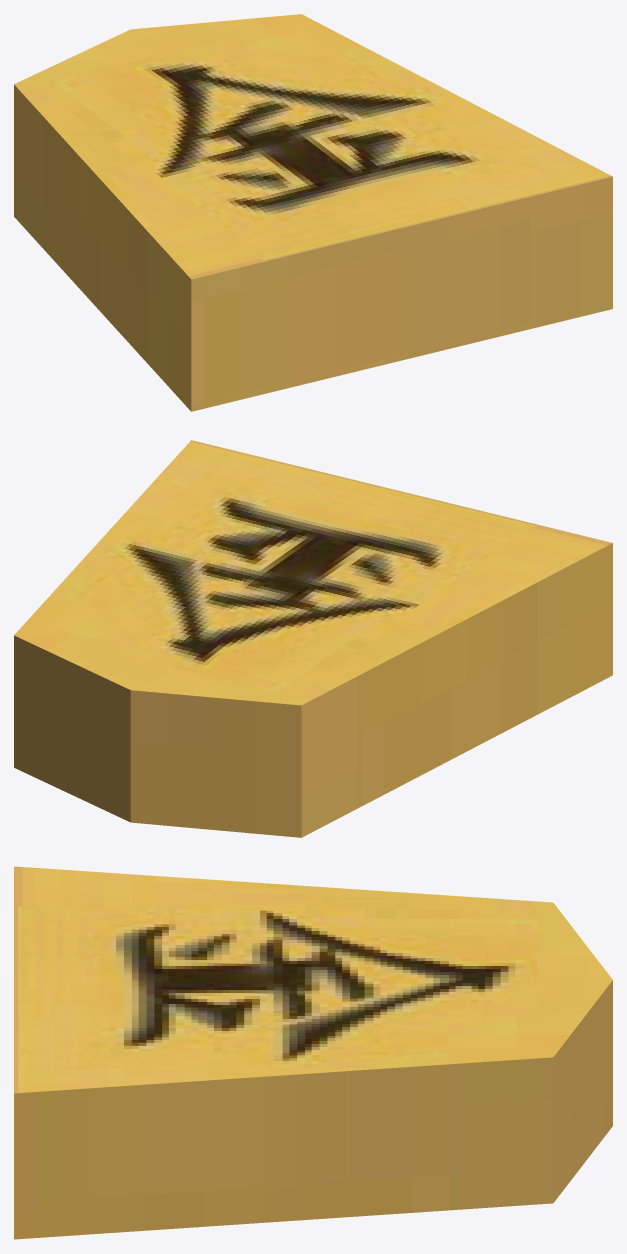
File: KIN_01.fbx
3 views of the same model, one above another, from view 1: azimuth 30°, elevation 25°; view 2: azimuth 150°, elevation 25°; view 3: azimuth 270°, elevation 25° (orthographic). The views are drawn at different scales.
Visible parts, largest first — view 1: Circle; view 2: Circle; view 3: Circle.
Boxes of the visible parts, x1,y1,x2,y2 form: Circle: (14, 14, 612, 411); Circle: (14, 440, 612, 837); Circle: (14, 866, 612, 1239).
Size of the model in its own units: 100 by 30 by 112.
